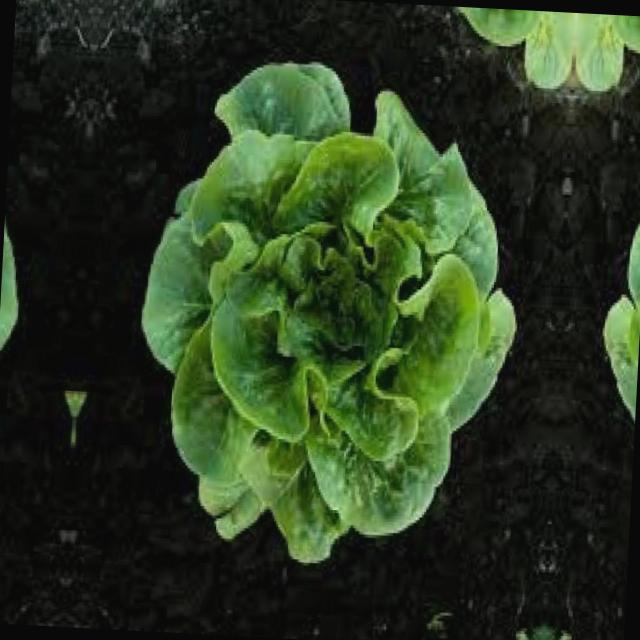healthy: (126, 51, 531, 574), (589, 75, 640, 580), (0, 44, 35, 548)
